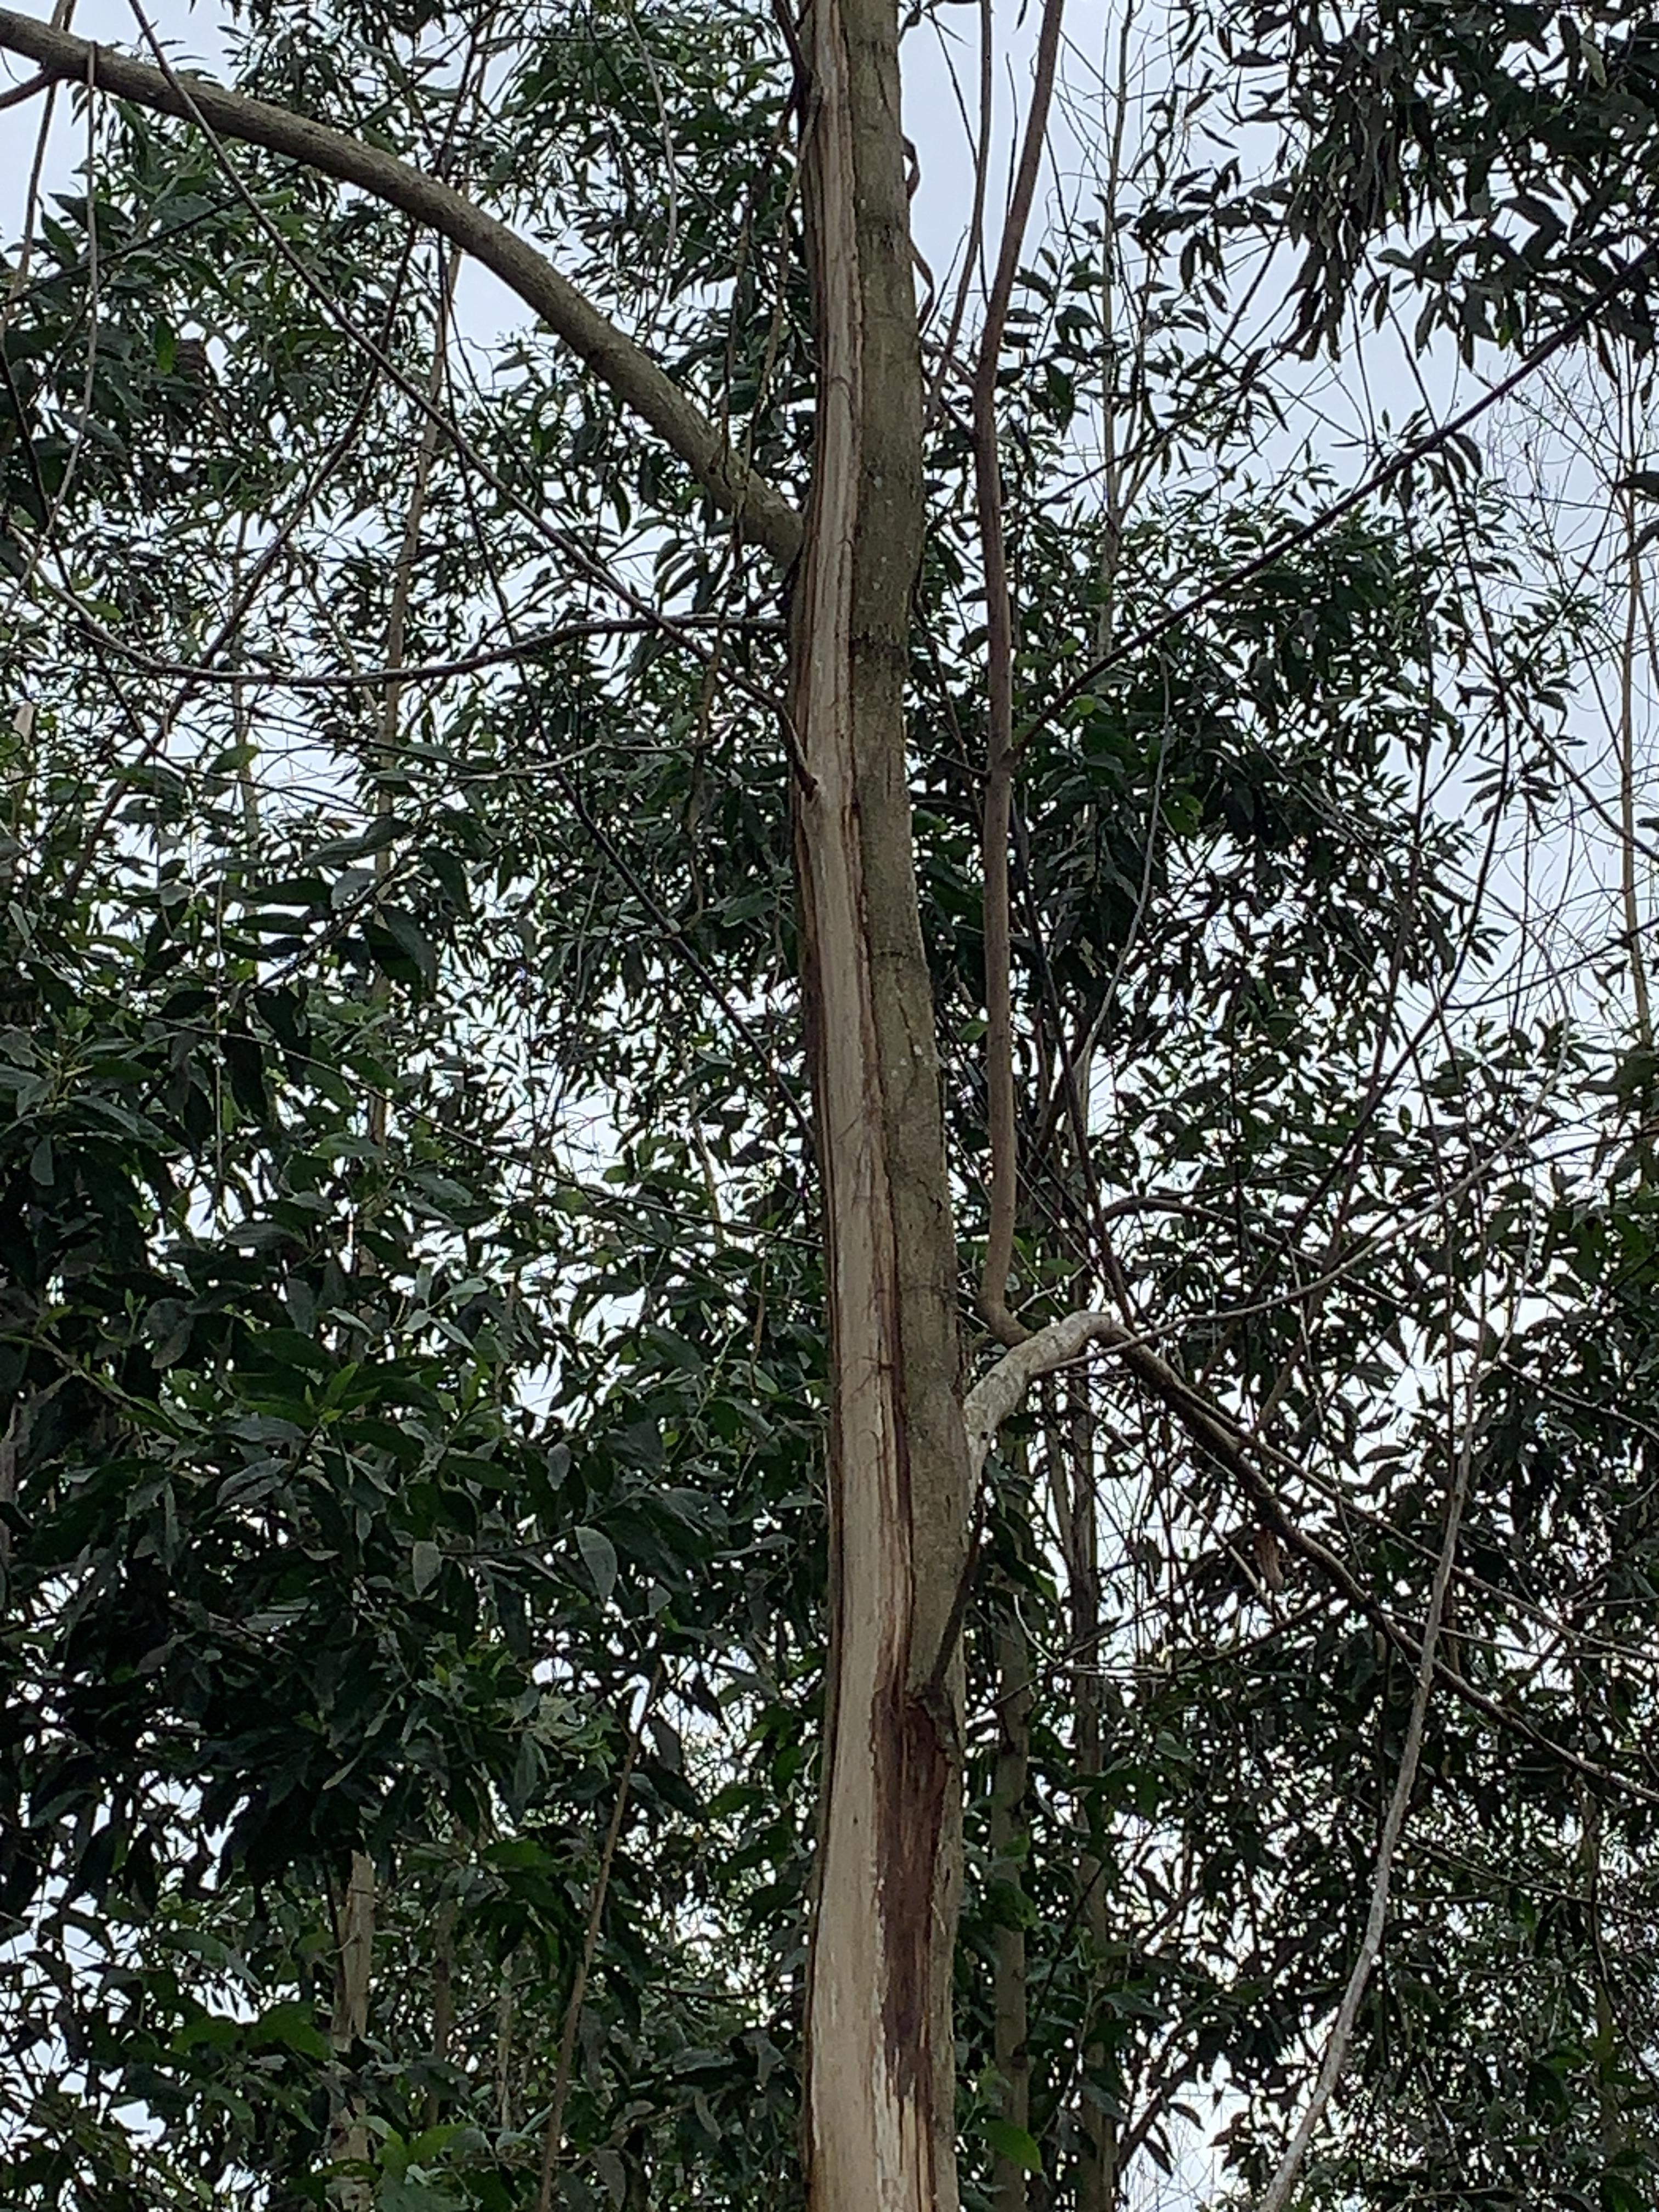Mammals Attack: (781, 23, 981, 2212)
